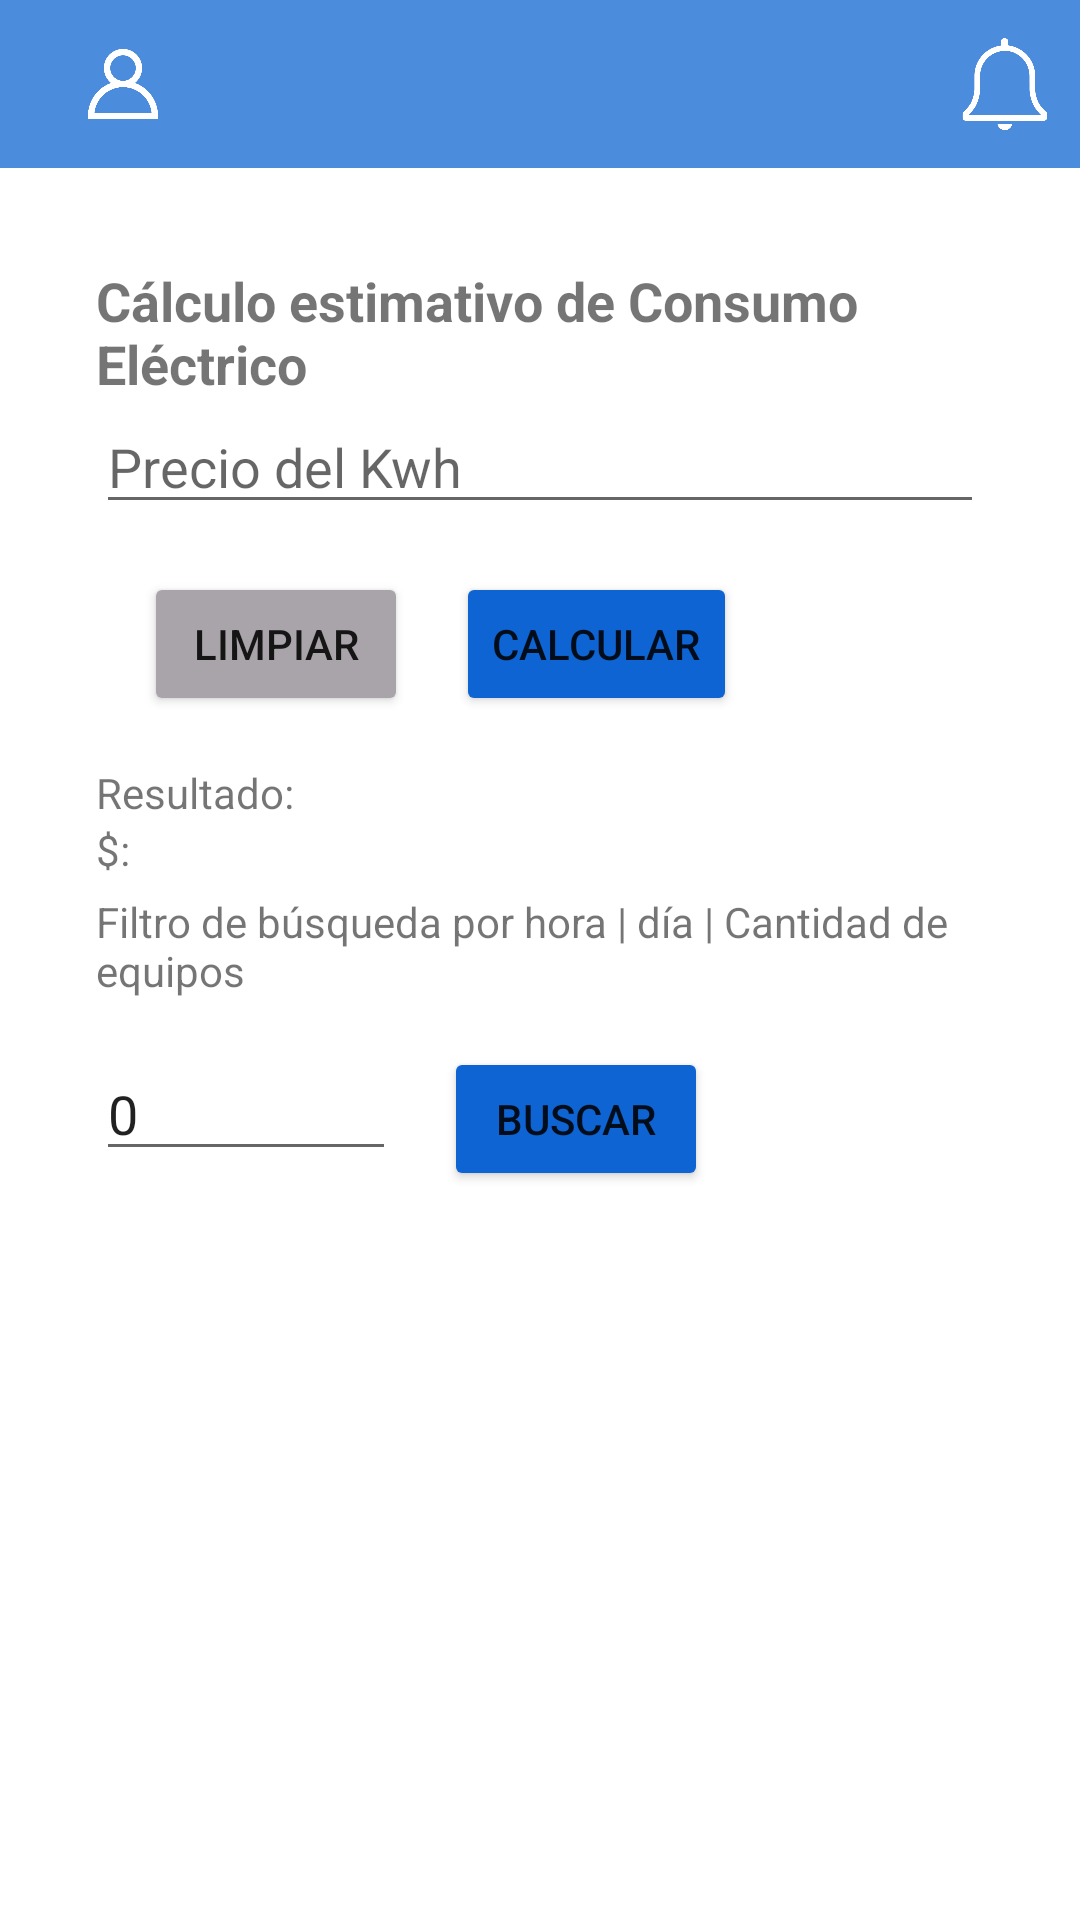

Where to tap for icons on this 1080w x 1920h app screen, as (x=x, y=y):
Notification Icon: (x=1005, y=84)
User Icon: (x=123, y=84)
